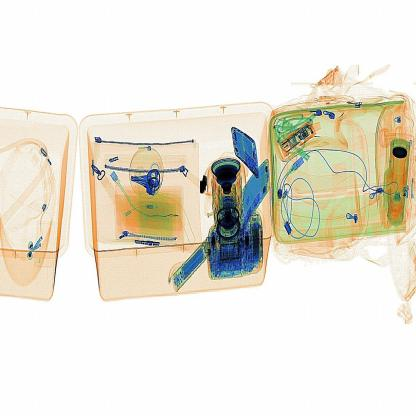knife: (192, 170, 216, 212)
